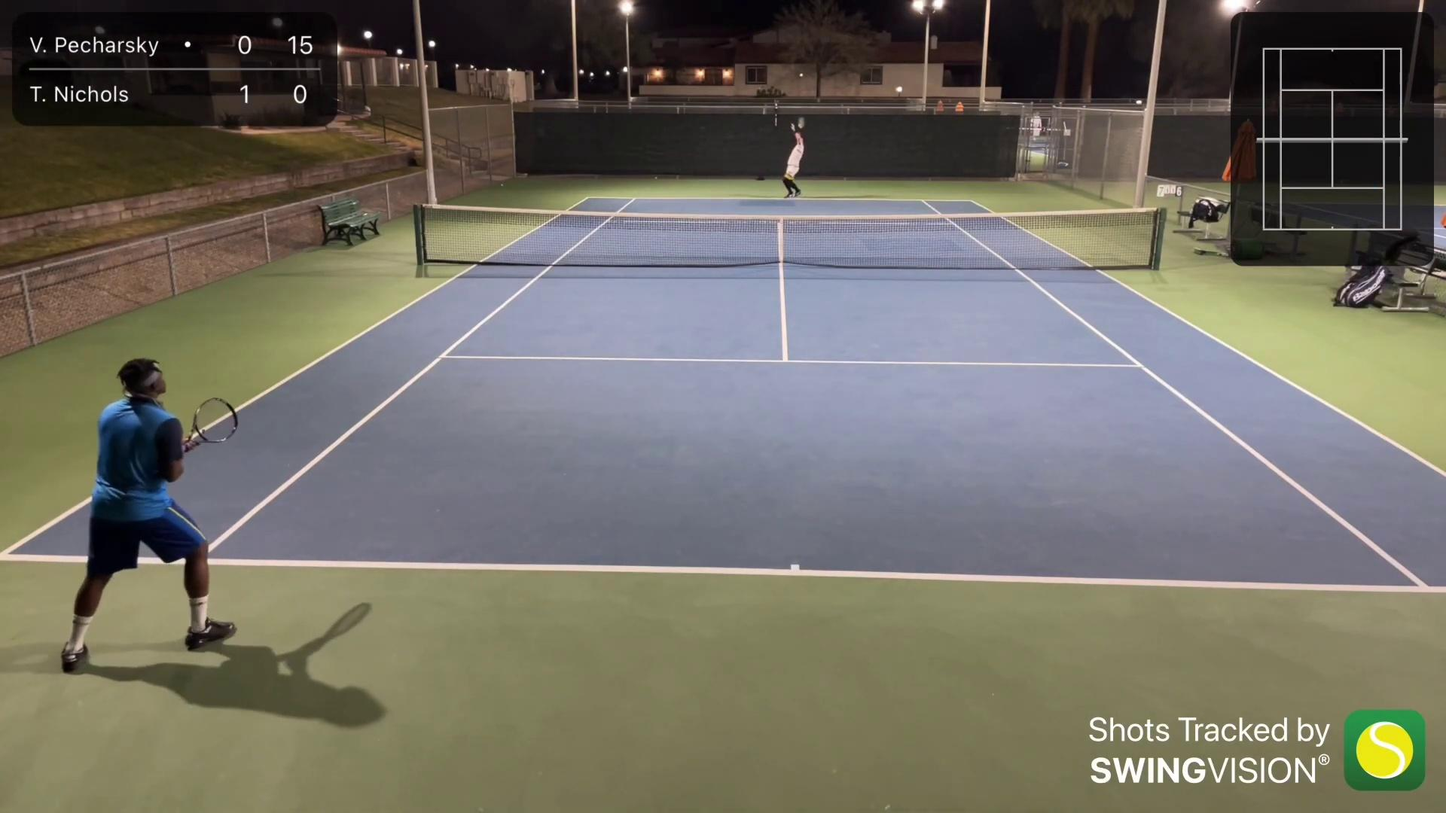ball: (798, 72, 805, 79)
